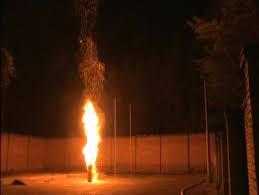fire: (76, 87, 109, 175)
